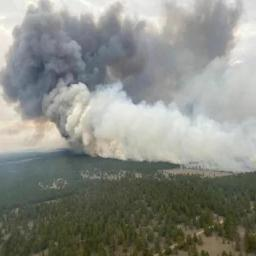Heavy smoke: (0, 0, 255, 178)
